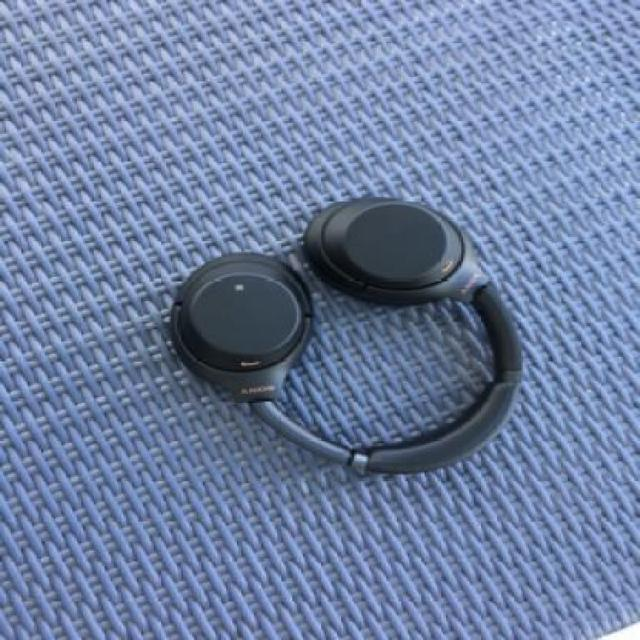earphone: (162, 180, 556, 508)
